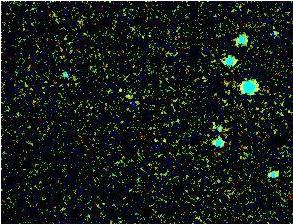star: (104, 74, 134, 104)
